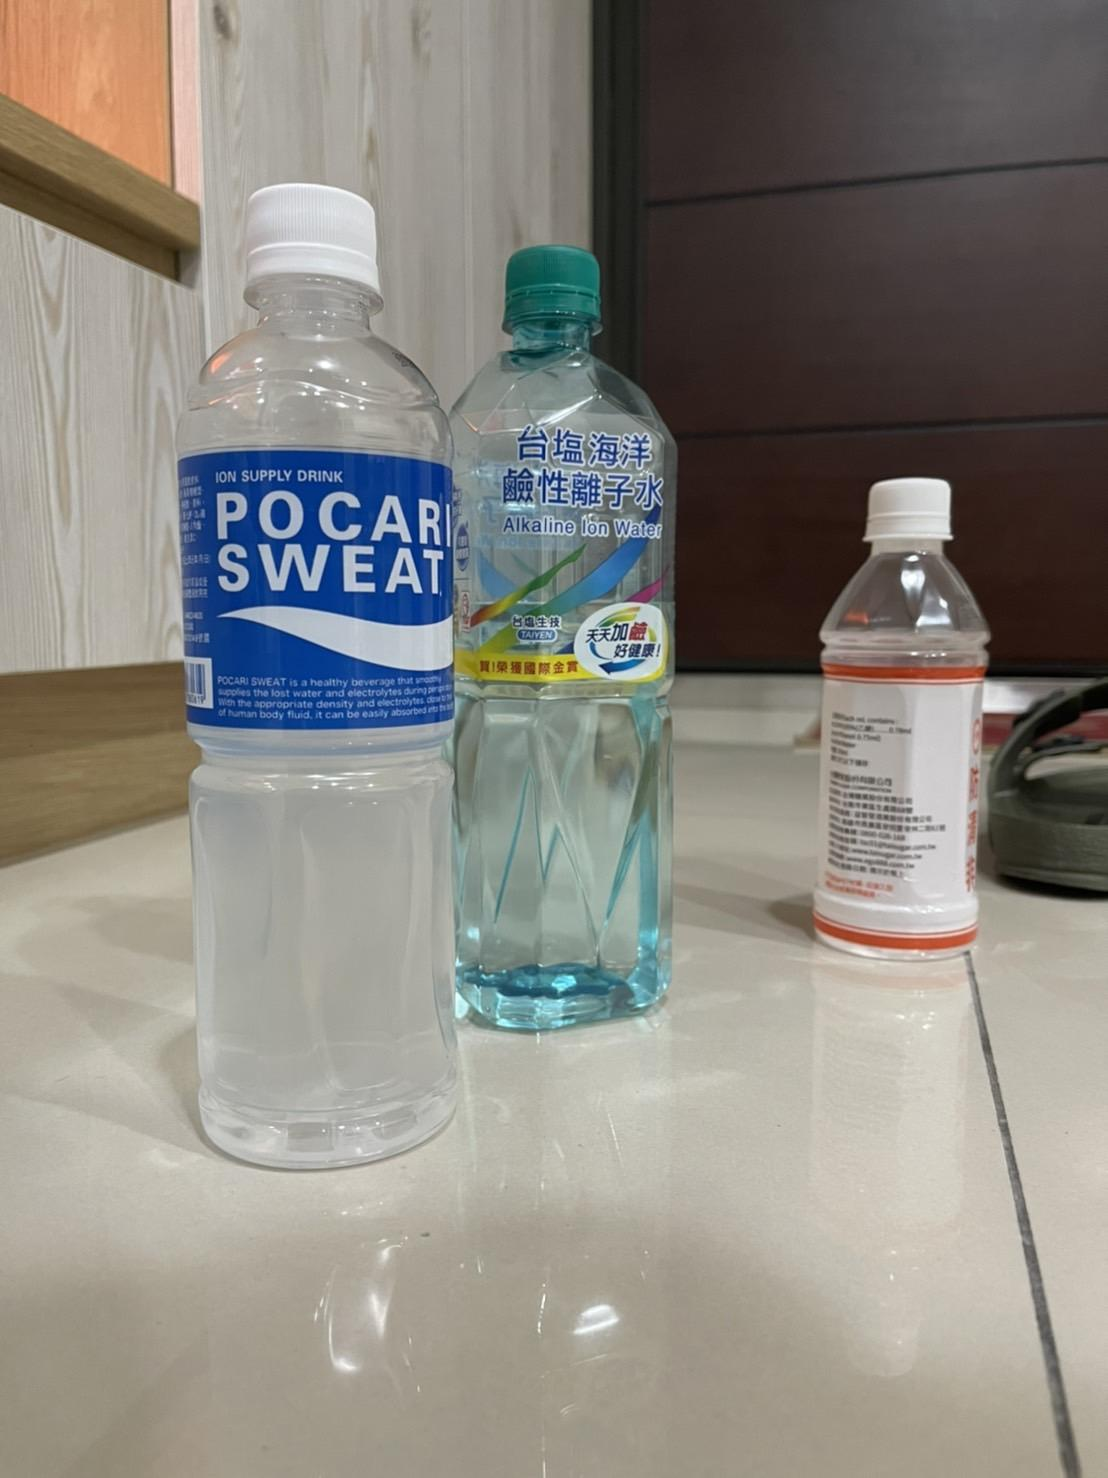bottle: (156, 170, 486, 1191), (802, 447, 1002, 982), (414, 592, 689, 688)
